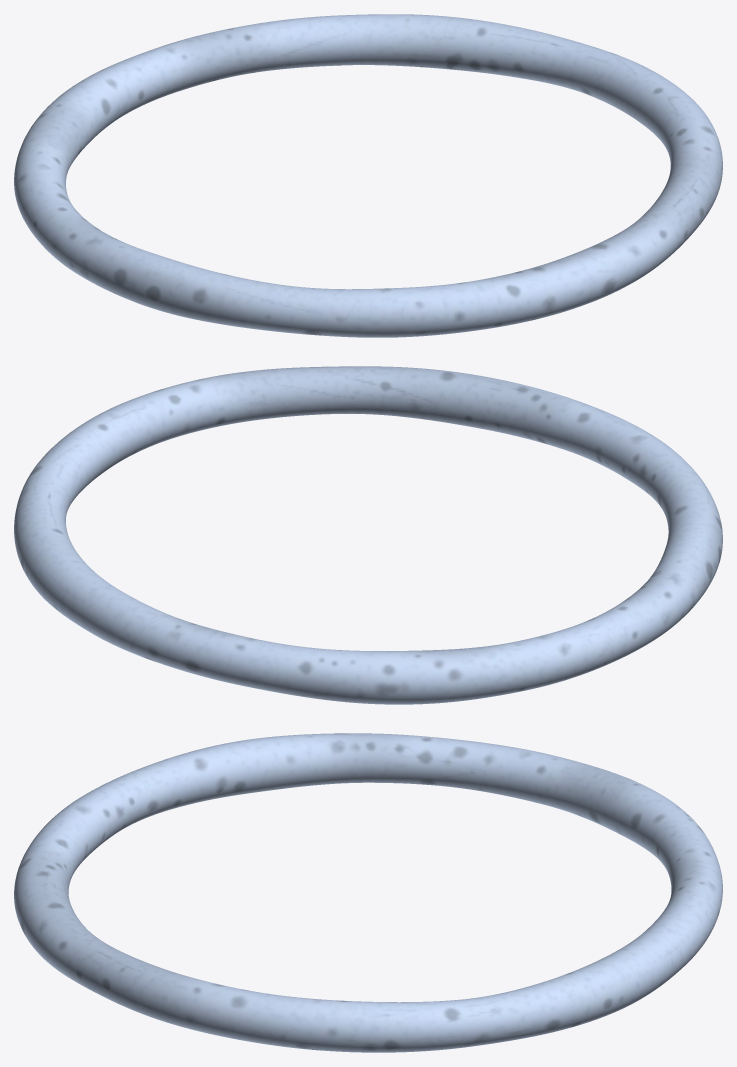
Rendered from plain-ring.glb.
The picture shows the model from 3 angles, top to bottom: view 1: azimuth 30°, elevation 25°; view 2: azimuth 150°, elevation 25°; view 3: azimuth 270°, elevation 25°; orthographic projection.
Bounding box in the file's own units: 0.0201 × 0.00185 × 0.0199.
1 material, 1 textured.
